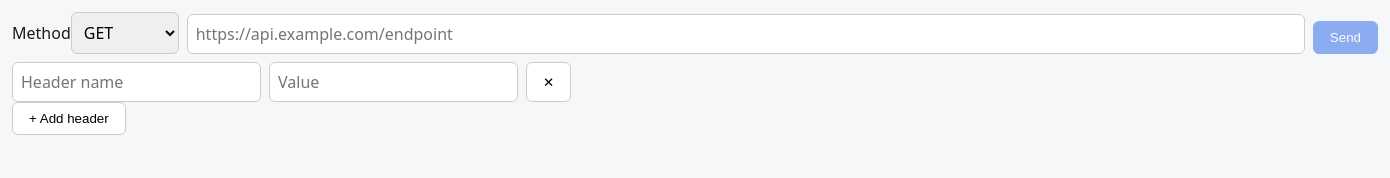
Test: RequestForm › shows an inline error and does not send when the URL has no http scheme
In the field with placeholder "https://api.example.com/endpoint": (746, 34) x1=187 y1=14 x2=1305 y2=54, type "foo"
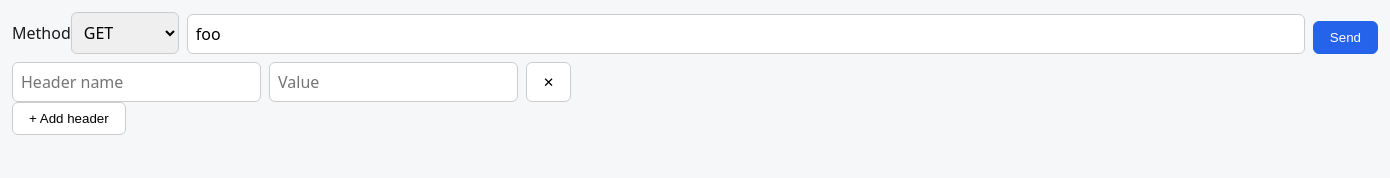
Click the button "Send": click(1345, 38) x1=1313 y1=21 x2=1378 y2=54
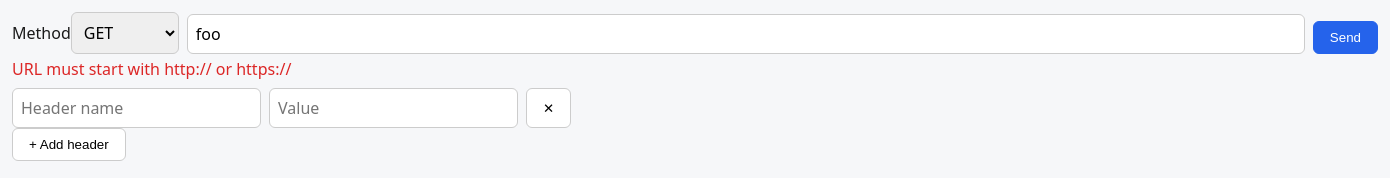
Expected: the text "URL must start with http:// or https://" is shown, x1=12 y1=58 x2=291 y2=80
